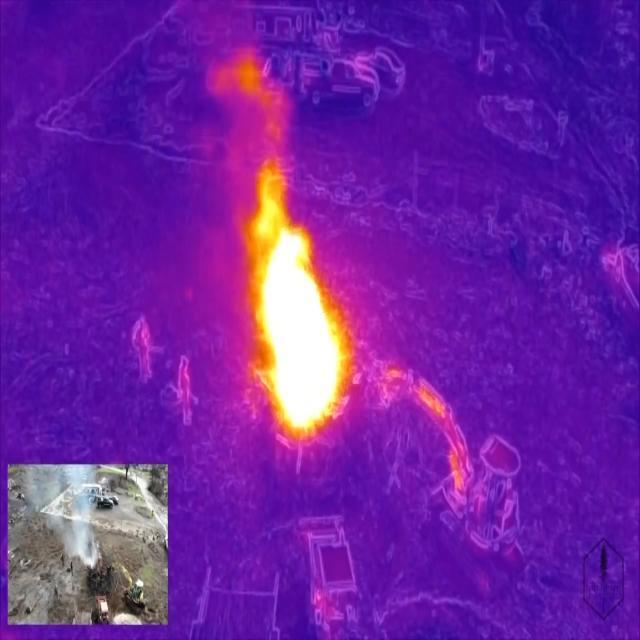fire: (248, 170, 352, 440)
